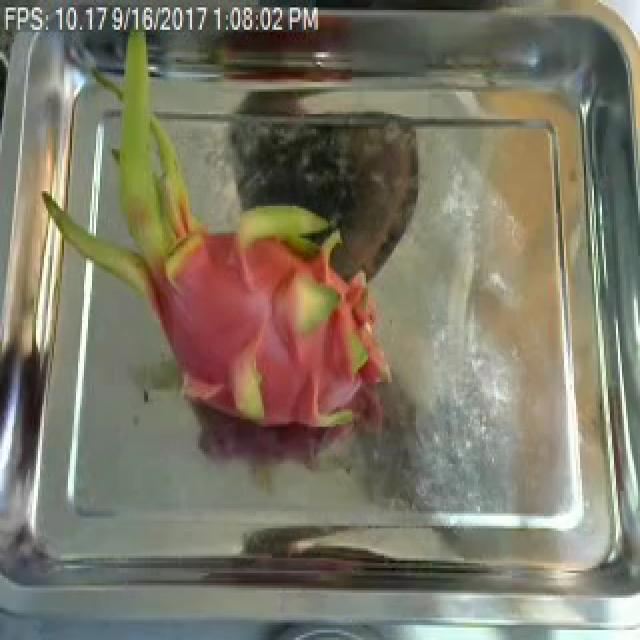fruit: (28, 77, 398, 474)
